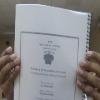notebook: (12, 3, 92, 99)
